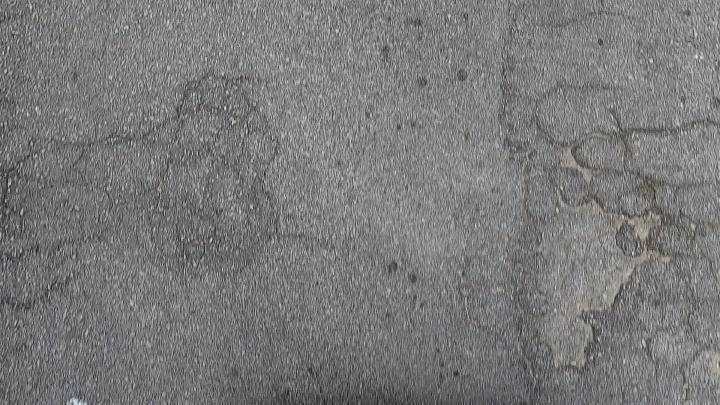Crack: (522, 80, 720, 156), (618, 158, 700, 263), (100, 74, 200, 144), (102, 80, 200, 141), (601, 111, 719, 150), (524, 84, 586, 151), (636, 209, 698, 262), (0, 150, 30, 228), (0, 154, 29, 221), (624, 169, 674, 196)
